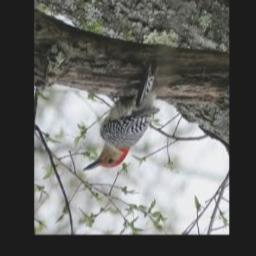Woodpecker: (82, 63, 159, 172)
